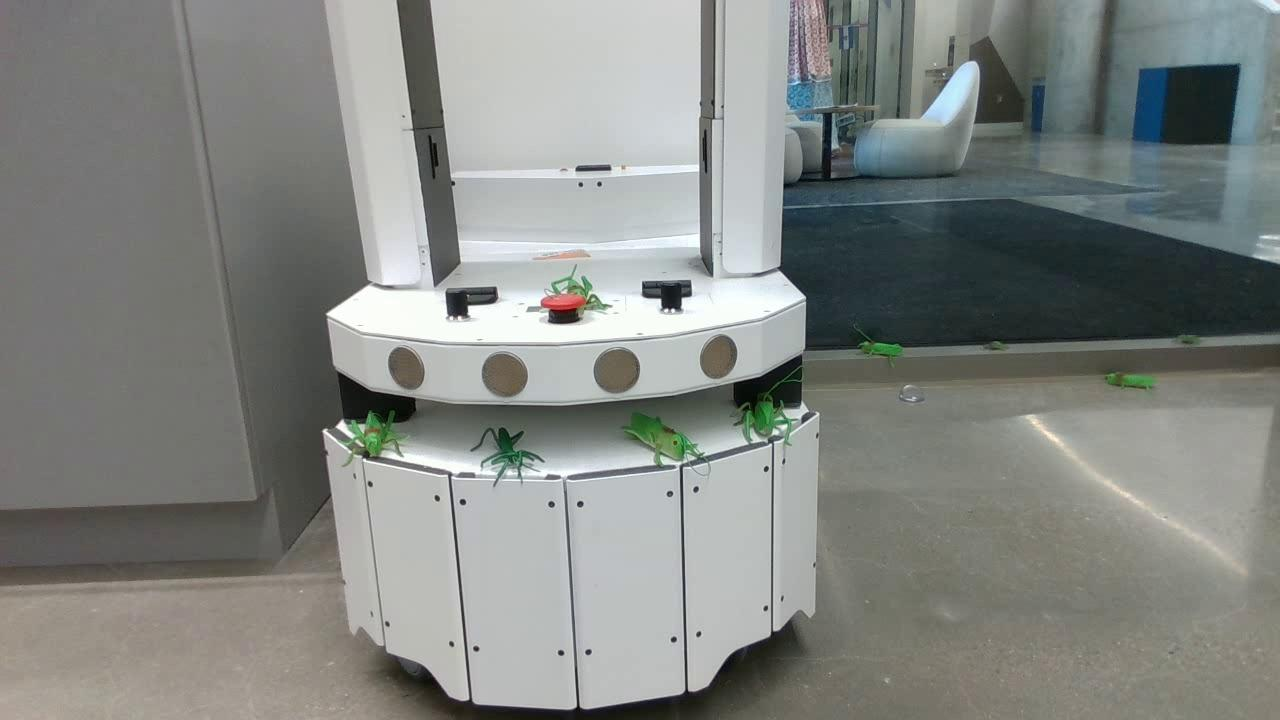grasshopper: (612, 415, 711, 461), (725, 388, 800, 448), (341, 410, 408, 469), (548, 266, 611, 300), (856, 335, 910, 367), (1099, 369, 1163, 394)
